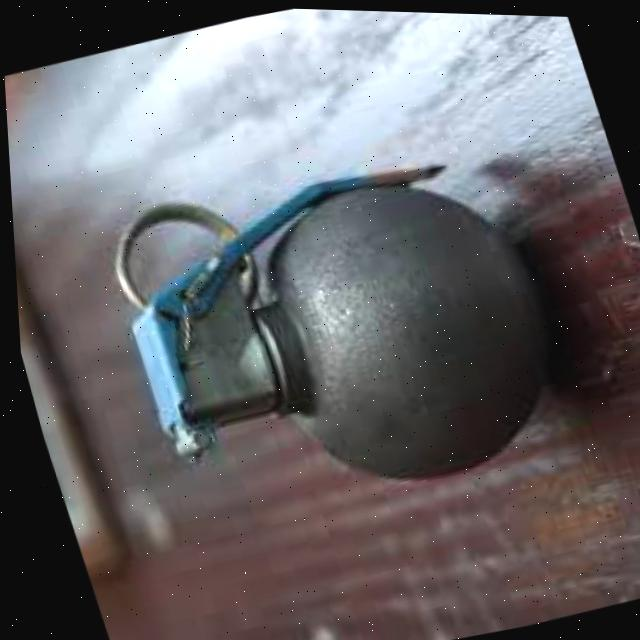grenade: (71, 114, 608, 559)
